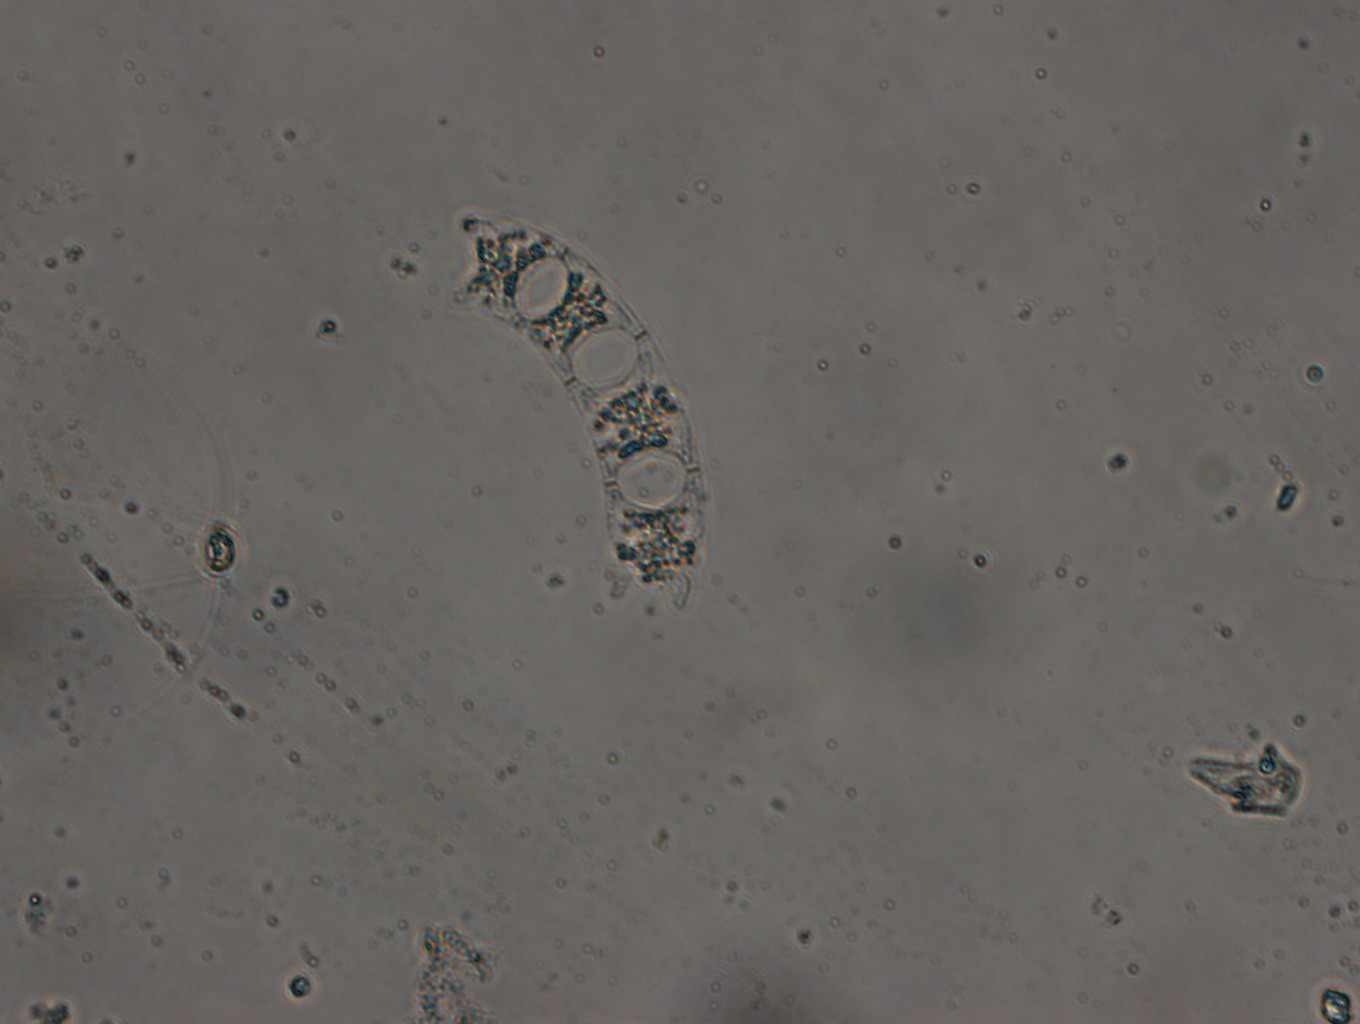eucampia: (452, 208, 710, 622)
